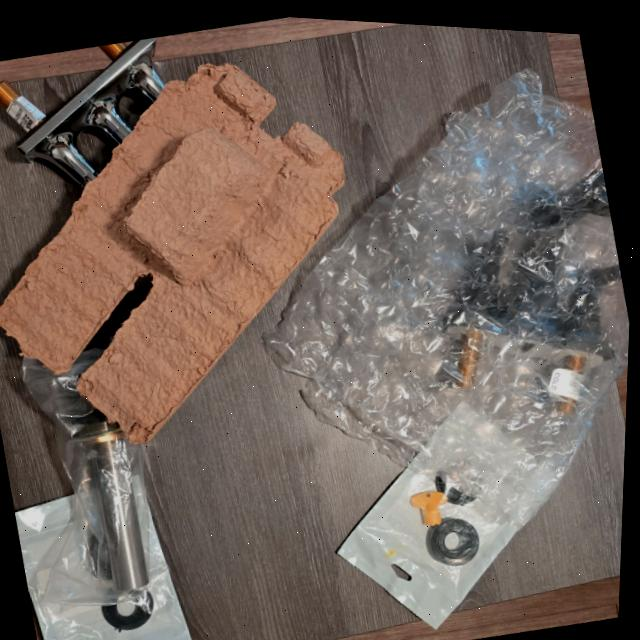10o: (0, 37, 164, 186)
11o: (22, 348, 148, 595)
12o: (337, 465, 524, 628)
13o: (14, 488, 191, 640)
9c: (263, 69, 629, 523)
